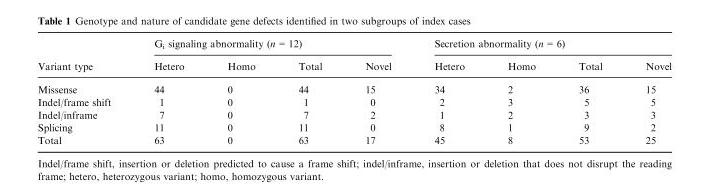table: (36, 37, 671, 145)
table column: (36, 37, 131, 145), (131, 37, 205, 145), (412, 37, 485, 145), (205, 37, 276, 145), (485, 37, 556, 145), (342, 37, 412, 145), (556, 37, 623, 145), (276, 37, 342, 145), (623, 37, 671, 145)
table column header: (36, 37, 671, 77)
table row: (36, 55, 671, 77), (36, 37, 671, 55), (36, 77, 671, 95), (36, 95, 671, 108), (36, 108, 671, 121), (36, 121, 671, 133), (36, 133, 671, 145)
table spanning cell: (131, 37, 412, 55), (412, 37, 671, 55), (36, 37, 131, 77)
